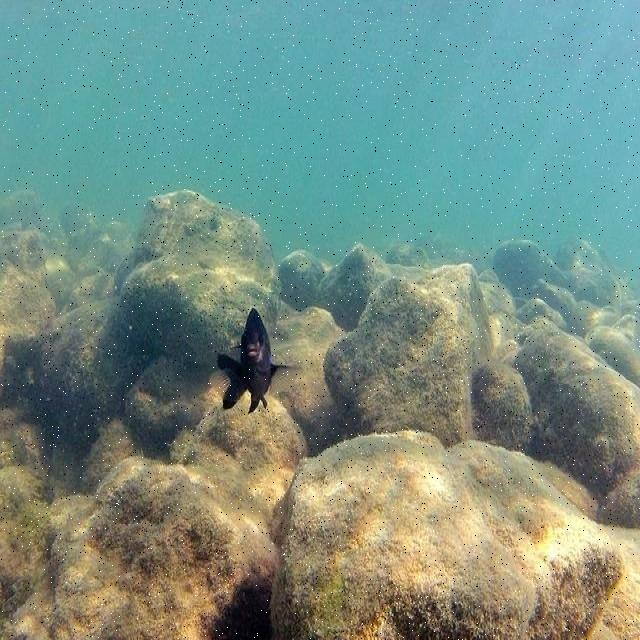fish: (217, 307, 299, 409)
sea-floor: (0, 193, 355, 639), (277, 242, 639, 527), (274, 428, 639, 639)
